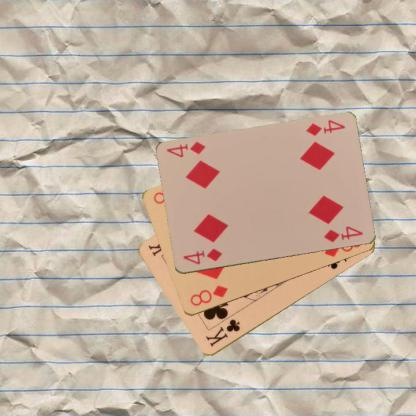4d: (180, 246, 223, 266), (303, 118, 346, 138)
8d: (188, 282, 230, 308)
Kc: (202, 316, 242, 348)
